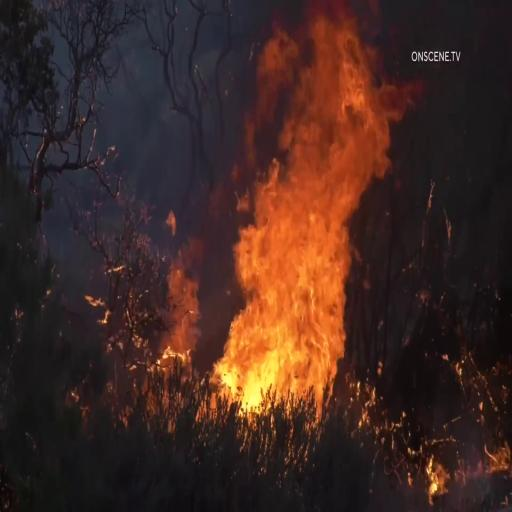fire: (203, 14, 410, 418), (146, 194, 204, 394)
